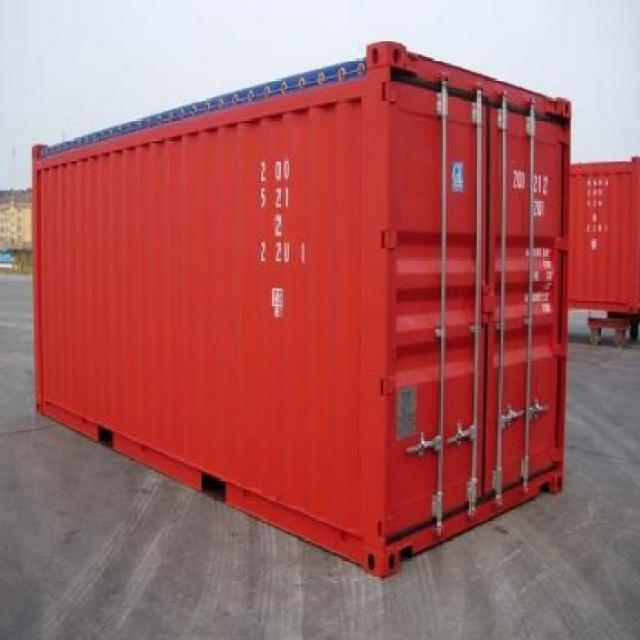ISO: (534, 202, 546, 213)
container_number: (514, 171, 560, 192)
